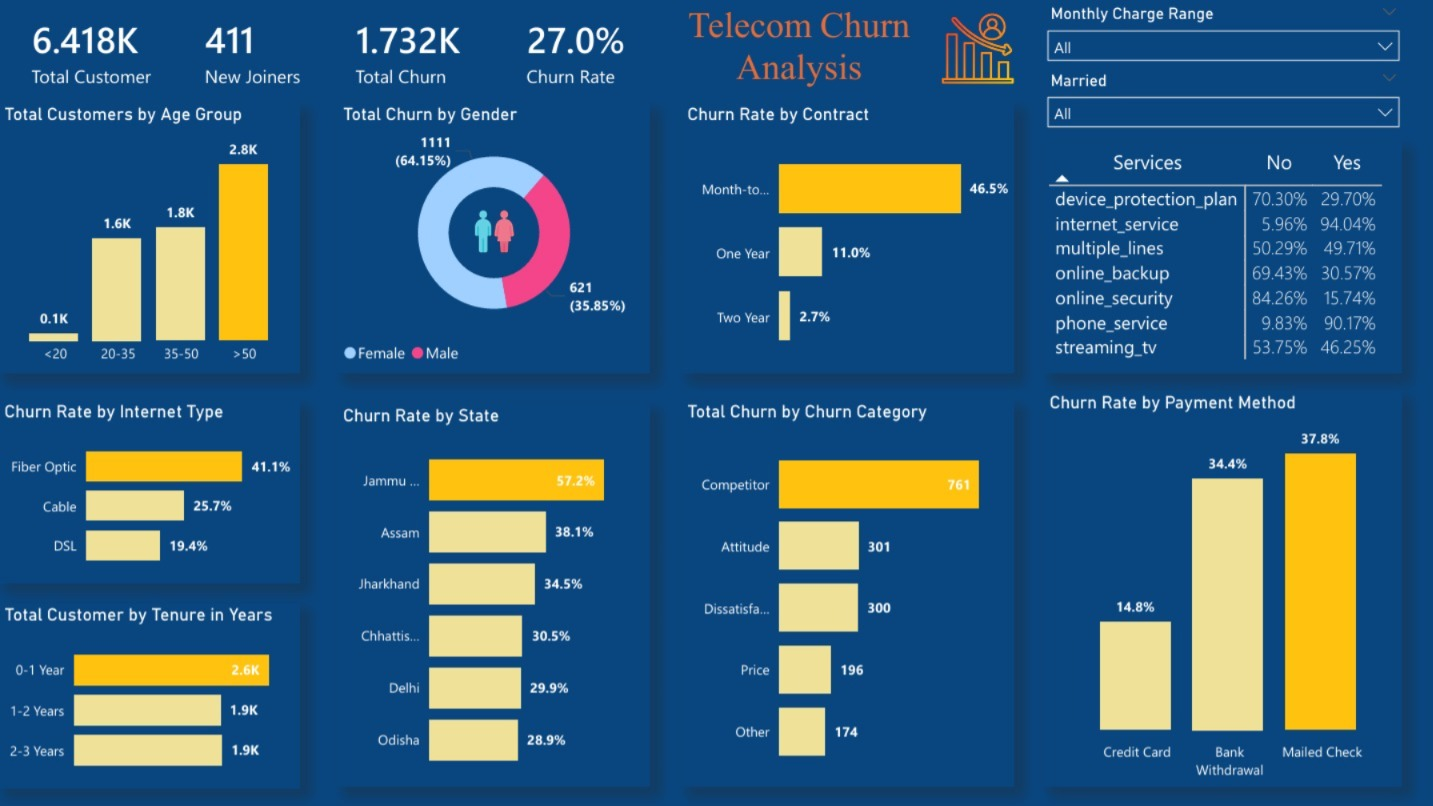

Layout of this report page (visuals, bound fields, positions):
{"tool":"powerbi","page":{"name":"Page 1","canvas":[1280,720],"ordinal":0},"visuals":[{"type":"cardVisual","fields":{"Data":["tbl_Measure.Total Customer"]},"box":[0,0,166,93.3],"z":0},{"type":"cardVisual","fields":{"Data":["tbl_Measure.New Joiners"]},"box":[153.8,0,158.8,93.8],"z":1000},{"type":"cardVisual","fields":{"Data":["tbl_Measure.Total Churn"]},"box":[287.5,0,171.2,93.8],"z":2000},{"type":"cardVisual","fields":{"Data":["tbl_Measure.Churn Rate"]},"box":[440.4,0,171.3,92.9],"z":3000},{"type":"donutChart","title":"Total Churn by Gender","fields":{"Category":["public customer_churn.gender"],"Y":["tbl_Measure.Total Churn"]},"box":[300.5,93.3,278.6,240.1],"z":4000},{"type":"lineStackedColumnComboChart","title":"Total Customers by Age Group","fields":{"Category":["public customer_churn.AgeDrp"],"Y2":["tbl_Measure.Churn Rate"],"Y":["tbl_Measure.Total Customer"]},"box":[0,93.3,267.6,240.1],"z":5000},{"type":"columnChart","title":"Churn Rate by Payment Method","fields":{"Category":["public customer_churn.payment_method"],"Y":["tbl_Measure.Churn Rate"]},"box":[929,348.7,318.5,351.1],"z":6000},{"type":"clusteredBarChart","title":"Churn Rate by Contract","fields":{"Category":["public customer_churn.contract"],"Y":["tbl_Measure.Churn Rate"]},"box":[606.5,93.3,296.4,240.1],"z":7000},{"type":"barChart","title":"Total Customer by Tenure in Years","fields":{"Category":["public customer_churn.Tenure in years"],"Y":["tbl_Measure.Total Customer"]},"box":[0,536.5,267.6,164.7],"z":8000},{"type":"clusteredBarChart","title":"Churn Rate by State","fields":{"Category":["public customer_churn.state"],"Y":["tbl_Measure.Churn Rate"]},"box":[300.5,359.5,278.6,340.3],"z":9000},{"type":"clusteredBarChart","title":"Total Churn by Churn Category","fields":{"Category":["public customer_churn.churn_category"],"Y":["tbl_Measure.Total Churn"]},"box":[606.5,356.8,296.4,343.1],"z":10000},{"type":"clusteredBarChart","title":"Churn Rate by Internet Type","fields":{"Category":["public customer_churn.internet_type"],"Y":["tbl_Measure.Churn Rate"]},"box":[0,356.8,267.6,161.9],"z":11000},{"type":"slicer","fields":{"Values":["customer services.Monthly Charge Status "]},"box":[921.7,0,333,59.1],"z":12000},{"type":"slicer","fields":{"Values":["customer services.married"]},"box":[921.7,59.1,333,66.4],"z":13000},{"type":"pivotTable","fields":{"Rows":["customer services.Services"],"Columns":["customer services.Status"],"Values":["Sum(customer services.Churn Status)"]},"box":[929,126.7,318.5,206.3],"z":14000},{"type":"image","box":[816.8,10.9,105,66.4],"z":15000},{"type":"textbox","box":[598.4,0,226.8,92.9],"z":16000},{"type":"image","box":[418.6,183.4,43.4,47.1],"z":16001}]}

Visuals, with their boxes in screenshot pixels (x1, y1, x2, y2), scaled from the page's 1280x720 canvas onto the 1433x806 screenshot:
cardVisual - tbl_Measure.Total Customer: {"x1": 0, "y1": 0, "x2": 186, "y2": 104}
cardVisual - tbl_Measure.New Joiners: {"x1": 172, "y1": 0, "x2": 350, "y2": 105}
cardVisual - tbl_Measure.Total Churn: {"x1": 322, "y1": 0, "x2": 514, "y2": 105}
cardVisual - tbl_Measure.Churn Rate: {"x1": 493, "y1": 0, "x2": 685, "y2": 104}
"Total Churn by Gender" donutChart: {"x1": 336, "y1": 104, "x2": 648, "y2": 373}
"Total Customers by Age Group" lineStackedColumnComboChart: {"x1": 0, "y1": 104, "x2": 300, "y2": 373}
"Churn Rate by Payment Method" columnChart: {"x1": 1040, "y1": 390, "x2": 1397, "y2": 783}
"Churn Rate by Contract" clusteredBarChart: {"x1": 679, "y1": 104, "x2": 1011, "y2": 373}
"Total Customer by Tenure in Years" barChart: {"x1": 0, "y1": 601, "x2": 300, "y2": 785}
"Churn Rate by State" clusteredBarChart: {"x1": 336, "y1": 402, "x2": 648, "y2": 783}
"Total Churn by Churn Category" clusteredBarChart: {"x1": 679, "y1": 399, "x2": 1011, "y2": 783}
"Churn Rate by Internet Type" clusteredBarChart: {"x1": 0, "y1": 399, "x2": 300, "y2": 581}
slicer - customer services.Monthly Charge Status : {"x1": 1032, "y1": 0, "x2": 1405, "y2": 66}
slicer - customer services.married: {"x1": 1032, "y1": 66, "x2": 1405, "y2": 140}
pivotTable - customer services.Services x customer services.Status: {"x1": 1040, "y1": 142, "x2": 1397, "y2": 373}
image: {"x1": 914, "y1": 12, "x2": 1032, "y2": 87}
textbox: {"x1": 670, "y1": 0, "x2": 924, "y2": 104}
image: {"x1": 469, "y1": 205, "x2": 517, "y2": 258}
